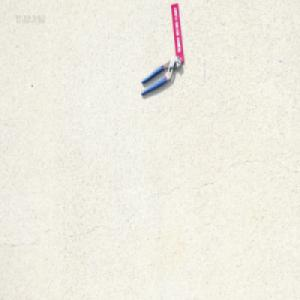Label: (170, 2, 185, 63)
Pliers: (140, 53, 182, 96)
